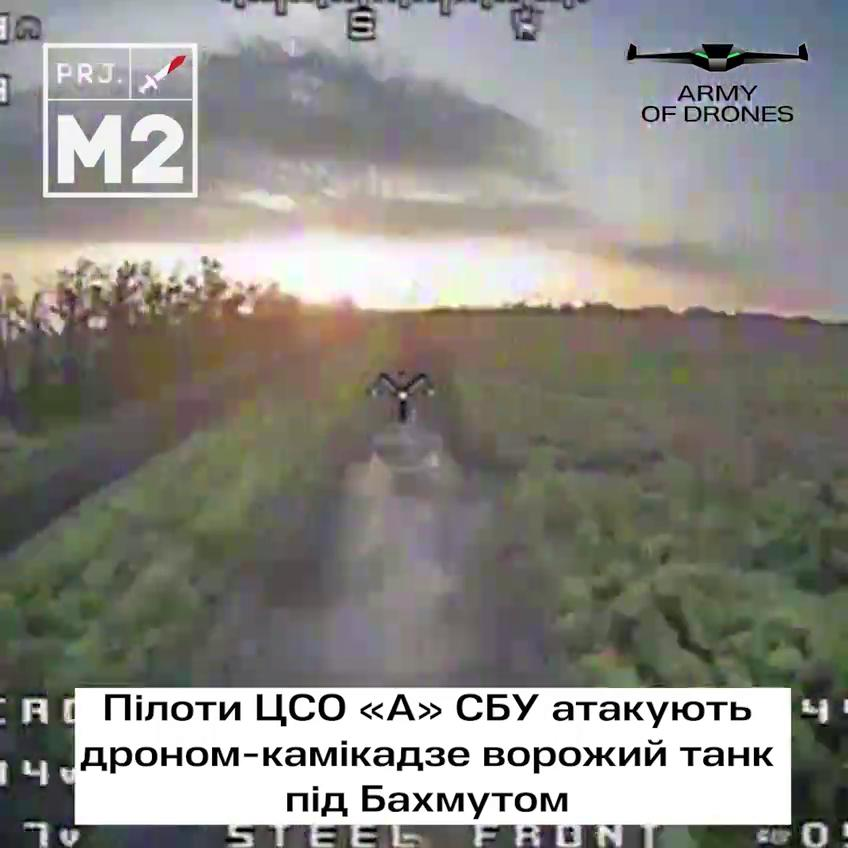tank: (364, 405, 448, 533)
